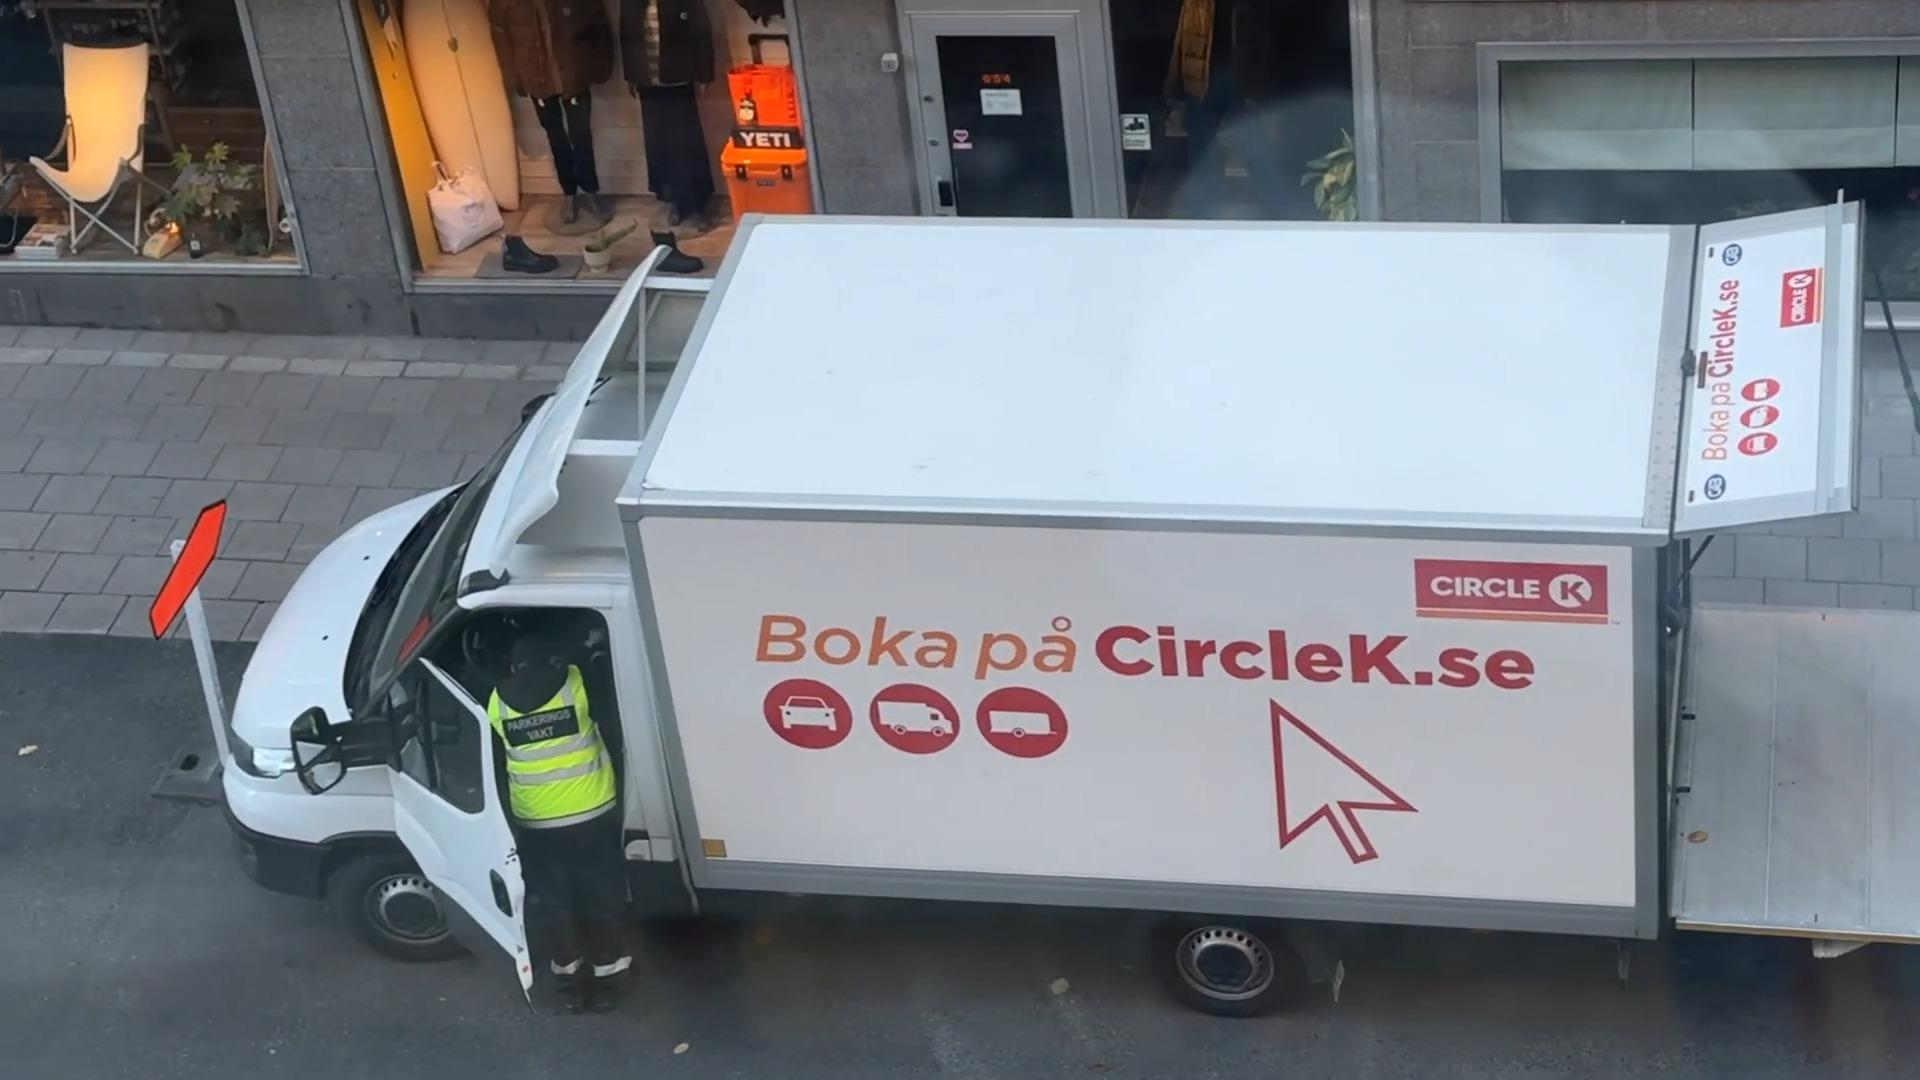parking-attendant: (487, 632, 632, 1011)
